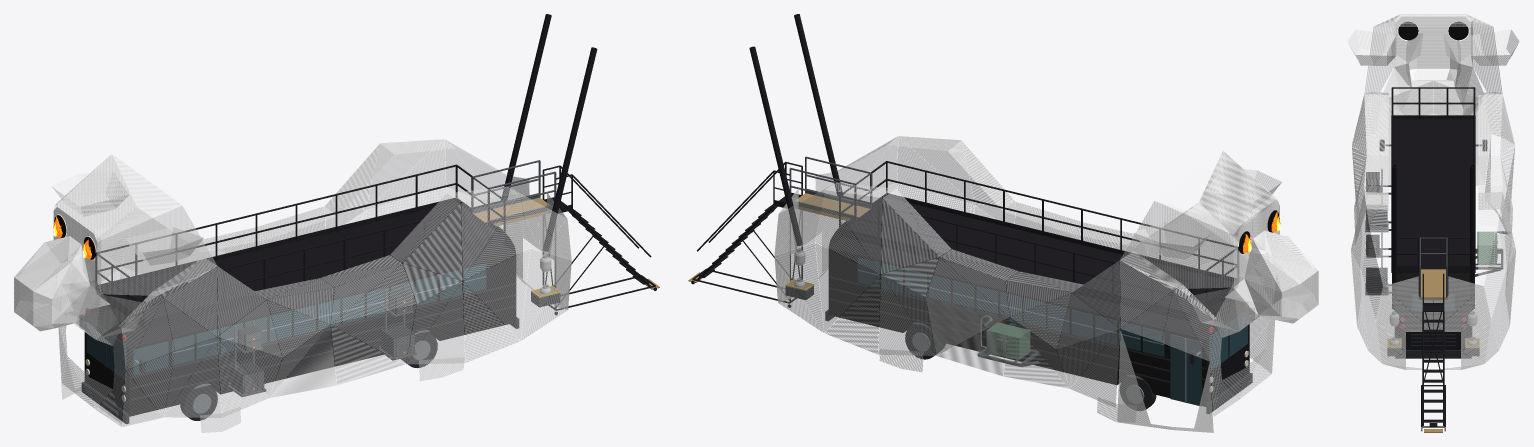
Rendered from baaabs-panelized-v18.glb.
The picture shows the model from 3 angles, left to right: view 1: azimuth 30°, elevation 25°; view 2: azimuth 150°, elevation 25°; view 3: azimuth 270°, elevation 25°; orthographic projection. The views are drawn at different scales.
Parts seen in each view (by area): view 1: Bus__Body_96in_wide, H-D-001 | Driver continuous side, H-C-002 | Center continuous rising crown, H-P-001 | Passenger continuous side, B-D-054 | Driver Skirt 07 b, B-D-050 | Driver Skirt 05 b, B-D-051 | Driver Skirt 06 a, B-D-043 | Driver Skirt 02 a, B-D-038 | Driver Flank 07 b, B-D-036 | Driver Flank 06 b, B-D-053 | Driver Skirt 07 a, B-D-049 | Driver Skirt 05 a (+73 smaller); view 2: Bus__Body_96in_wide, H-P-001 | Passenger continuous side, H-C-002 | Center continuous rising crown, H-D-001 | Driver continuous side, B-P-062 | Passenger Skirt 07 b, B-P-058 | Passenger Skirt 05 b, B-P-059 | Passenger Skirt 06 a, B-P-044 | Passenger Flank 06 b, B-P-046 | Passenger Flank 07 b, B-P-061 | Passenger Skirt 07 a, B-P-057 | Passenger Skirt 05 a, B-P-055 | Passenger Skirt 04 a (+73 smaller); view 3: Bus__Body_96in_wide, H-D-001 | Driver continuous side, H-P-001 | Passenger continuous side, H-C-002 | Center continuous rising crown, Dancefloor_section_04, Bus__Rear_engine_hatch, Dancefloor_section_01, Dancefloor_section_03, Dancefloor_section_02, Dancefloor_section_06, Dancefloor_section_08, B-D-059 | Driver Rear surround 06 a (+111 smaller).
Part boxes in pixels (x1,y1,x2,y2): Bus__Body_96in_wide: (84,243,516,416); H-D-001 | Driver continuous side: (101,206,216,295); H-C-002 | Center continuous rising crown: (57,154,181,230); H-P-001 | Passenger continuous side: (55,155,135,254); B-D-054 | Driver Skirt 07 b: (463,249,529,340); B-D-050 | Driver Skirt 05 b: (331,305,416,363); B-D-051 | Driver Skirt 06 a: (406,282,465,364); B-D-043 | Driver Skirt 02 a: (165,338,221,417); B-D-038 | Driver Flank 07 b: (461,194,519,279); B-D-036 | Driver Flank 06 b: (403,203,462,280); B-D-053 | Driver Skirt 07 a: (463,282,519,362); B-D-049 | Driver Skirt 05 a: (331,325,404,384); Bus__Body_96in_wide: (828,237,1249,406); H-P-001 | Passenger continuous side: (1120,201,1233,288); H-C-002 | Center continuous rising crown: (1154,151,1276,225); H-D-001 | Driver continuous side: (1199,152,1278,249); B-P-062 | Passenger Skirt 07 b: (815,243,880,332); B-P-058 | Passenger Skirt 05 b: (925,297,1008,355); B-P-059 | Passenger Skirt 06 a: (878,275,935,355); B-P-044 | Passenger Flank 06 b: (881,199,938,273); B-P-046 | Passenger Flank 07 b: (825,190,882,273); B-P-061 | Passenger Skirt 07 a: (825,275,880,354); B-P-057 | Passenger Skirt 05 a: (937,318,1009,375); B-P-055 | Passenger Skirt 04 a: (1004,318,1068,388); Bus__Body_96in_wide: (1395,273,1471,349); H-D-001 | Driver continuous side: (1364,21,1393,93); H-P-001 | Passenger continuous side: (1473,21,1502,93); H-C-002 | Center continuous rising crown: (1374,14,1492,26); Dancefloor_section_04: (1391,156,1475,169); Bus__Rear_engine_hatch: (1406,323,1460,349); Dancefloor_section_01: (1391,119,1475,131); Dancefloor_section_03: (1391,144,1475,156); Dancefloor_section_02: (1391,131,1475,143); Dancefloor_section_06: (1391,181,1475,194); Dancefloor_section_08: (1391,206,1475,219); B-D-059 | Driver Rear surround 06 a: (1383,276,1433,329).
Size of the model in its own units: 19.95 by 8.42 by 5.52.
Materials: 231 (205 with a texture image).
